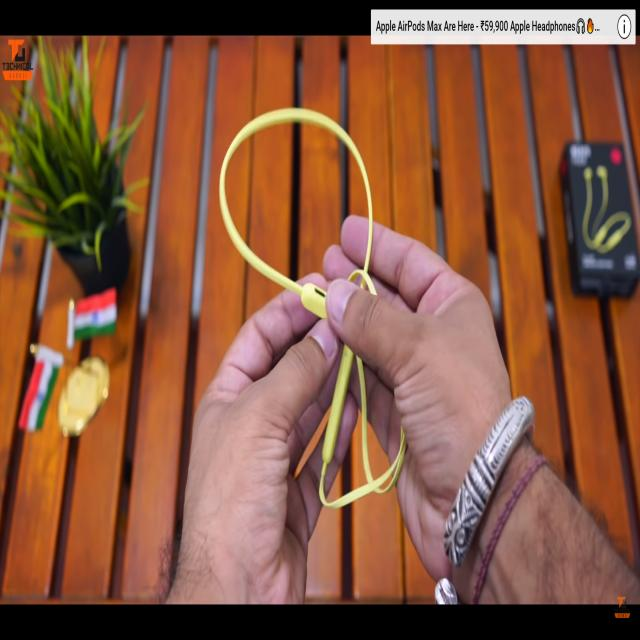Neckband: (219, 103, 409, 511)
